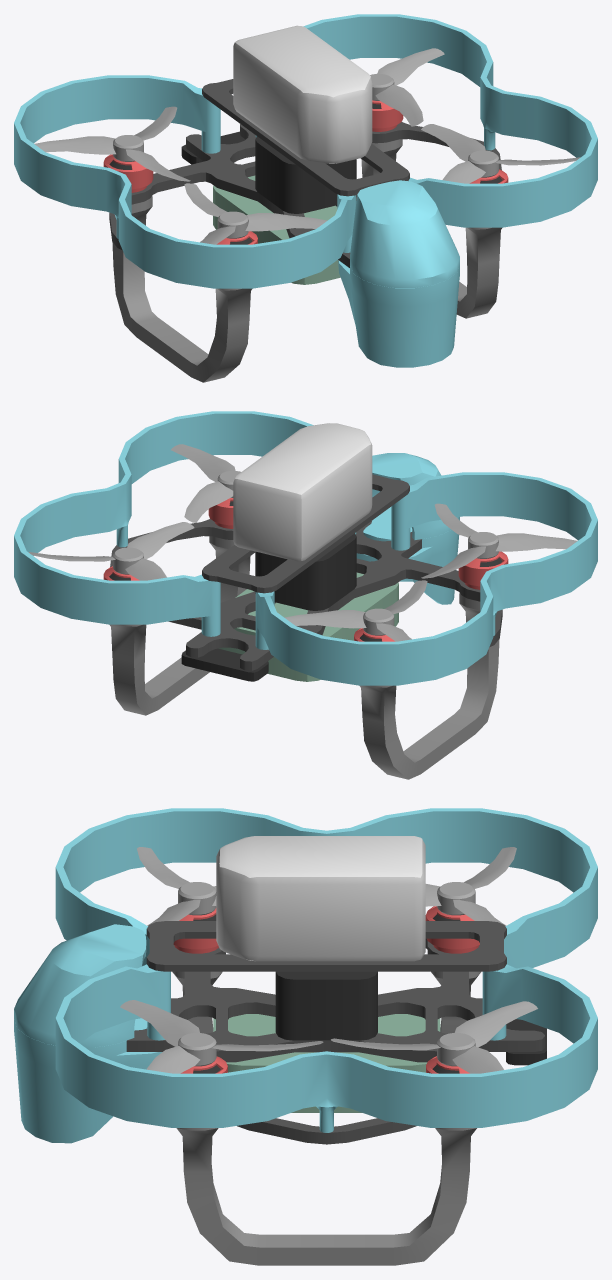
Rendered from obrik-sim2.fbx.
3 views of the same model, one above another, from view 1: azimuth 30°, elevation 25°; view 2: azimuth 150°, elevation 25°; view 3: azimuth 270°, elevation 25° (orthographic). The views are drawn at different scales.
Parts seen in each view (by area): view 1: Защита.001, Защита, Аккум, крышка есп, держатель камеры, Ножки.001, Рама низ, Полетник, ВМГ.001, Рама верх, Ножки, ВМГ (+3 smaller); view 2: Защита.001, Защита, Аккум, Рама низ, Ножки.001, Ножки, Рама верх, Полетник, ВМГ.003, ВМГ.001, ВМГ, ВМГ.002 (+4 smaller); view 3: Защита, Защита.001, Аккум, Рама низ, Ножки, Рама верх, крышка есп, Полетник, держатель камеры, ВМГ.002, ВМГ, ВМГ.001 (+4 smaller).
Boxes of the visible parts, x1,y1,x2,y2 form: Защита.001: (14, 75, 356, 288); Защита: (255, 14, 597, 227); Аккум: (233, 25, 372, 163); крышка есп: (350, 180, 459, 287); держатель камеры: (338, 260, 459, 367); Ножки.001: (112, 196, 252, 382); Рама низ: (109, 122, 501, 267); Полетник: (255, 136, 356, 213); ВМГ.001: (34, 106, 190, 192); Рама верх: (202, 79, 409, 196); Ножки: (361, 139, 502, 318); ВМГ: (370, 48, 444, 131); Защита.001: (255, 472, 597, 685); Защита: (14, 411, 356, 636); Аккум: (233, 423, 372, 561); Рама низ: (110, 519, 502, 670); Ножки.001: (359, 593, 499, 779); Ножки: (109, 536, 250, 715); Рама верх: (202, 474, 409, 593); Полетник: (255, 533, 356, 610); ВМГ.003: (421, 503, 577, 589); ВМГ.001: (284, 580, 427, 641); ВМГ: (29, 522, 194, 580); ВМГ.002: (171, 444, 240, 528); Защита: (55, 964, 597, 1132); Защита.001: (55, 808, 597, 968); Аккум: (216, 836, 425, 961); Рама низ: (126, 938, 544, 1144); Ножки: (176, 1128, 476, 1265); Рама верх: (146, 921, 506, 971); крышка есп: (14, 924, 146, 1047); Полетник: (275, 971, 377, 1040); держатель камеры: (14, 1018, 162, 1143); ВМГ.002: (120, 1000, 323, 1073); ВМГ: (331, 1001, 537, 1073); ВМГ.001: (425, 847, 516, 953).
Size of the model in its own units: 1.65 by 0.9323 by 1.51.
